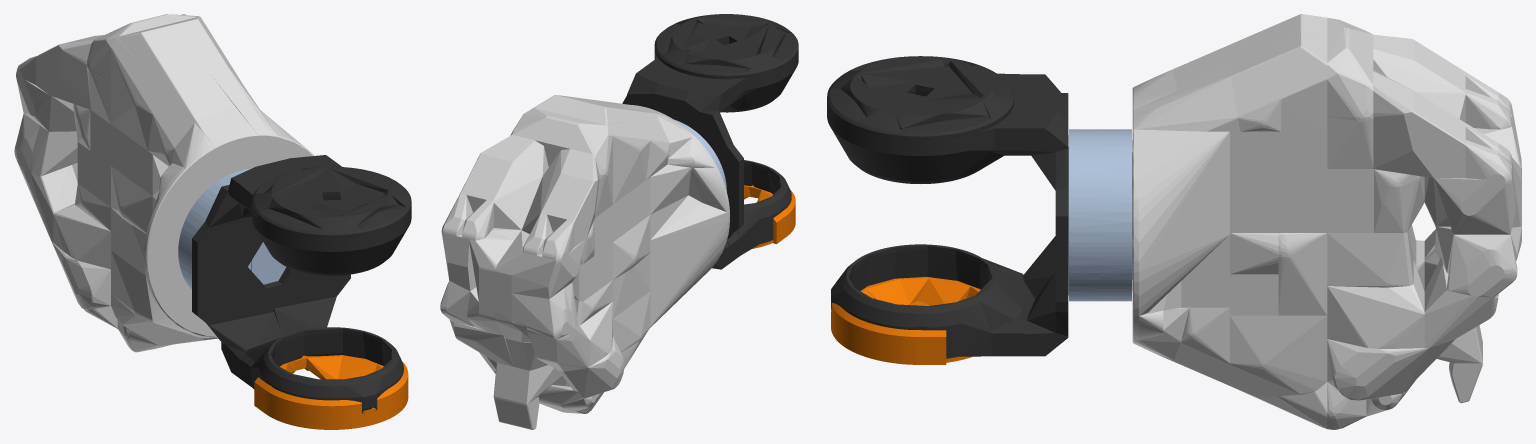
File: RARM_LINK7_mesh.dae
3 renders of one model, left to right at view 1: azimuth 30°, elevation 25°; view 2: azimuth 150°, elevation 25°; view 3: azimuth 270°, elevation 25°, orthographic. The views are drawn at different scales.
Visible parts, largest first — view 1: RARM_LINK7 (×8); view 2: RARM_LINK7 (×8); view 3: RARM_LINK7 (×8).
Boxes of the visible parts, x1=… form: RARM_LINK7 (×8): x1=14, y1=14, x2=411, y2=429; RARM_LINK7 (×8): x1=440, y1=14, x2=798, y2=429; RARM_LINK7 (×8): x1=827, y1=14, x2=1521, y2=429.
Bounding box in the file's own units: 0.1 × 0.1681 × 0.2707.
